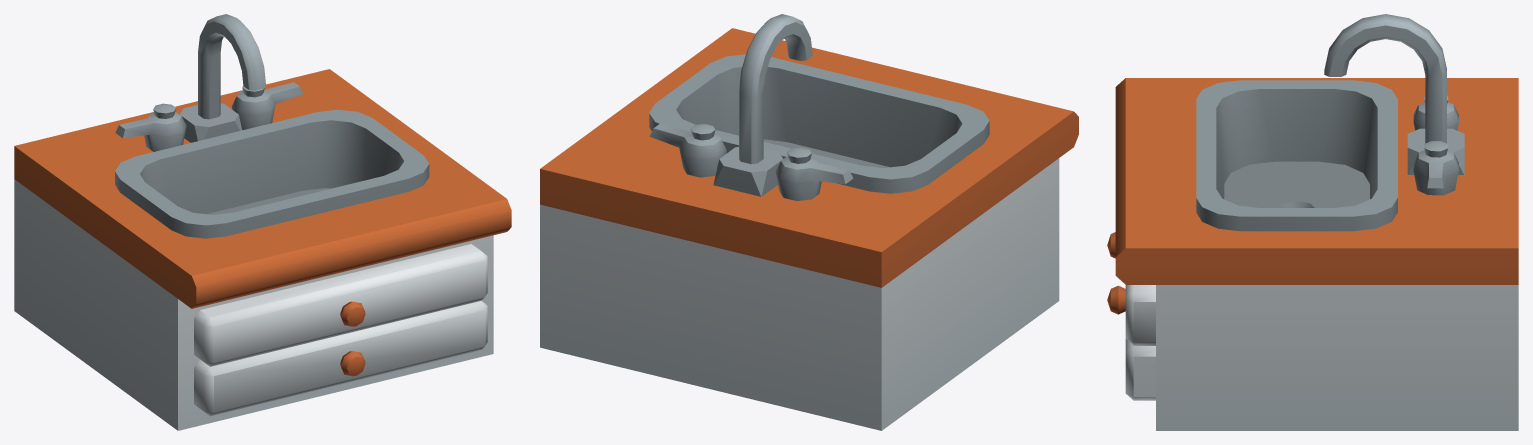
File: kitchencounter_sink.obj
The picture shows the model from 3 angles, left to right: view 1: azimuth 30°, elevation 25°; view 2: azimuth 150°, elevation 25°; view 3: azimuth 270°, elevation 25°; orthographic projection. The views are drawn at different scales.
Parts seen in each view (by area): view 1: kitchencounter_sink_Cube.18557; view 2: kitchencounter_sink_Cube.18557; view 3: kitchencounter_sink_Cube.18557.
Part boxes in pixels (box(x1,y1,x2,y2)): kitchencounter_sink_Cube.18557: box(14, 14, 511, 430); kitchencounter_sink_Cube.18557: box(540, 14, 1078, 430); kitchencounter_sink_Cube.18557: box(1107, 14, 1518, 430).
Bounding box in the file's own units: 2 × 1.8 × 2.04.
Materials: 1 (1 with a texture image).
